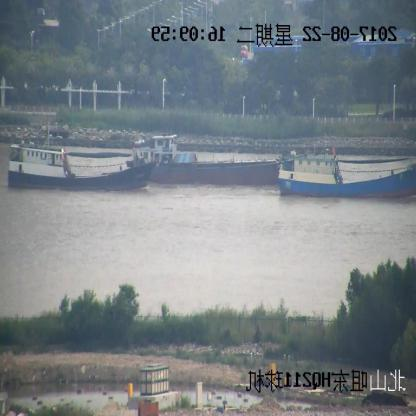Fishing Boat: (8, 132, 154, 190), (278, 150, 416, 198)
